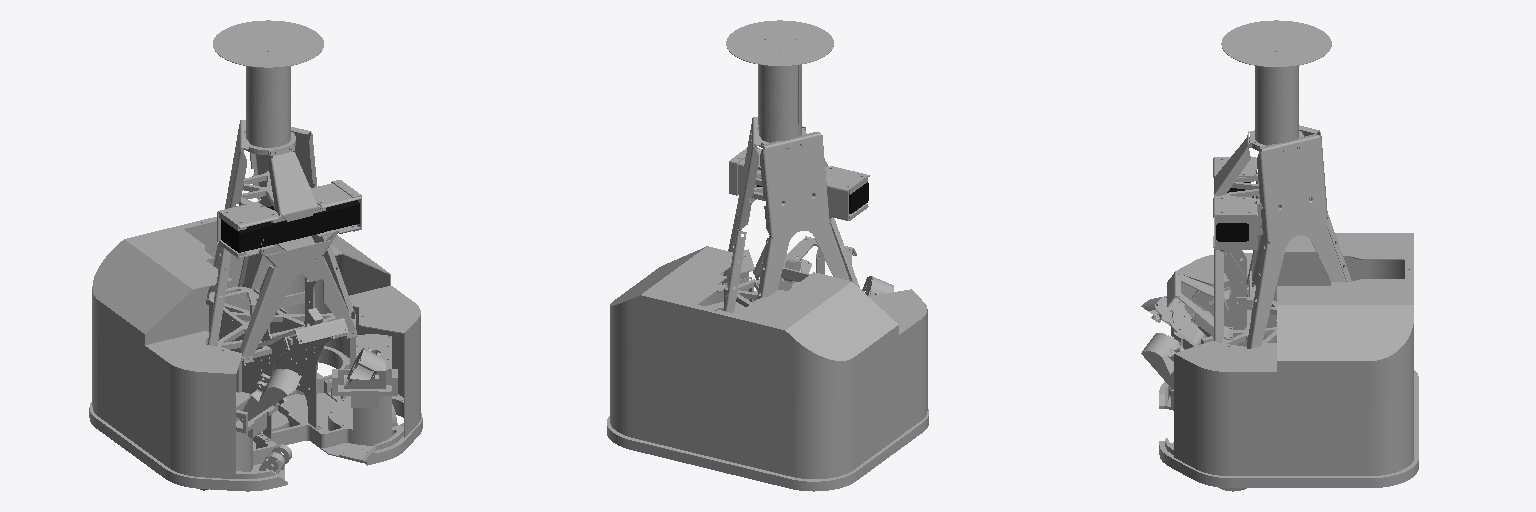
URDF robot description (3w_rcup_urdf_new):
<?xml version="1.0" ?>
<!-- =================================================================================== -->
<!-- |    This document was autogenerated by xacro from urdf/3w_rcup_urdf_new.xacro    | -->
<!-- |    EDITING THIS FILE BY HAND IS NOT RECOMMENDED                                 | -->
<!-- =================================================================================== -->
<robot xmlns:xacro="http://www.ros.org/wiki/xacro" name="3w_rcup_urdf_new">
  <material name="silver_default">
    <color rgba="0.700 0.700 0.700 1.000"/>
  </material>
  <material name="steel_satin">
    <color rgba="0.6274509803921569 0.6274509803921569 0.6274509803921569 1.0"/>
  </material>
  <material name="opaque272727">
    <color rgba="0.10588235294117647 0.10588235294117647 0.10588235294117647 1.0"/>
  </material>
  <transmission name="Revolute 5_tran">
    <type>transmission_interface/SimpleTransmission</type>
    <joint name="Revolute 5">
      <hardwareInterface>hardware_interface/EffortJointInterface</hardwareInterface>
    </joint>
    <actuator name="Revolute 5_actr">
      <hardwareInterface>hardware_interface/EffortJointInterface</hardwareInterface>
      <mechanicalReduction>1</mechanicalReduction>
    </actuator>
  </transmission>
  <transmission name="Revolute 6_tran">
    <type>transmission_interface/SimpleTransmission</type>
    <joint name="Revolute 6">
      <hardwareInterface>hardware_interface/EffortJointInterface</hardwareInterface>
    </joint>
    <actuator name="Revolute 6_actr">
      <hardwareInterface>hardware_interface/EffortJointInterface</hardwareInterface>
      <mechanicalReduction>1</mechanicalReduction>
    </actuator>
  </transmission>
  <transmission name="Revolute 7_tran">
    <type>transmission_interface/SimpleTransmission</type>
    <joint name="Revolute 7">
      <hardwareInterface>hardware_interface/EffortJointInterface</hardwareInterface>
    </joint>
    <actuator name="Revolute 7_actr">
      <hardwareInterface>hardware_interface/EffortJointInterface</hardwareInterface>
      <mechanicalReduction>1</mechanicalReduction>
    </actuator>
  </transmission>
  <transmission name="Revolute 15_tran">
    <type>transmission_interface/SimpleTransmission</type>
    <joint name="Revolute 15">
      <hardwareInterface>hardware_interface/EffortJointInterface</hardwareInterface>
    </joint>
    <actuator name="Revolute 15_actr">
      <hardwareInterface>hardware_interface/EffortJointInterface</hardwareInterface>
      <mechanicalReduction>1</mechanicalReduction>
    </actuator>
  </transmission>
  <transmission name="Revolute 16_tran">
    <type>transmission_interface/SimpleTransmission</type>
    <joint name="Revolute 16">
      <hardwareInterface>hardware_interface/EffortJointInterface</hardwareInterface>
    </joint>
    <actuator name="Revolute 16_actr">
      <hardwareInterface>hardware_interface/EffortJointInterface</hardwareInterface>
      <mechanicalReduction>1</mechanicalReduction>
    </actuator>
  </transmission>
  <transmission name="Revolute 17_tran">
    <type>transmission_interface/SimpleTransmission</type>
    <joint name="Revolute 17">
      <hardwareInterface>hardware_interface/EffortJointInterface</hardwareInterface>
    </joint>
    <actuator name="Revolute 17_actr">
      <hardwareInterface>hardware_interface/EffortJointInterface</hardwareInterface>
      <mechanicalReduction>1</mechanicalReduction>
    </actuator>
  </transmission>
  <link name="base_link">
    <inertial>
      <origin xyz="-0.0016765596355349697 0.010961034454487276 0.1359913404245512" rpy="0 0 0"/>
      <mass value="45.47836630248475"/>
      <inertia ixx="2.177628" iyy="2.397161" izz="1.792556" ixy="-0.008721" iyz="0.078213" ixz="-0.006159"/>
    </inertial>
    <visual>
      <origin xyz="0 0 0" rpy="0 0 0"/>
      <geometry>
        <mesh filename="package://3w_rcup_urdf_new_description/meshes/base_link.stl" scale="0.001 0.001 0.001"/>
      </geometry>
      <material name="silver_default"/>
    </visual>
    <collision>
      <origin xyz="0 0 0" rpy="0 0 0"/>
      <geometry>
        <mesh filename="package://3w_rcup_urdf_new_description/meshes/base_link.stl" scale="0.001 0.001 0.001"/>
      </geometry>
    </collision>
  </link>
  <link name="left_roller_1">
    <inertial>
      <origin xyz="-0.010694649902391953 0.00803962610329817 0.006781847703606597" rpy="0 0 0"/>
      <mass value="0.4122786652131398"/>
      <inertia ixx="0.000106" iyy="9.9e-05" izz="9.6e-05" ixy="-1e-05" iyz="8e-06" ixz="-9e-06"/>
    </inertial>
    <visual>
      <origin xyz="-0.095008 0.214003 -0.17631" rpy="0 0 0"/>
      <geometry>
        <mesh filename="package://3w_rcup_urdf_new_description/meshes/left_roller_1.stl" scale="0.001 0.001 0.001"/>
      </geometry>
      <material name="steel_satin"/>
    </visual>
    <collision>
      <origin xyz="-0.095008 0.214003 -0.17631" rpy="0 0 0"/>
      <geometry>
        <mesh filename="package://3w_rcup_urdf_new_description/meshes/left_roller_1.stl" scale="0.001 0.001 0.001"/>
      </geometry>
    </collision>
  </link>
  <link name="right_roller_1">
    <inertial>
      <origin xyz="0.01070386879259716 0.008003421622574586 0.006810021314246767" rpy="0 0 0"/>
      <mass value="0.41227866521313966"/>
      <inertia ixx="0.000106" iyy="9.9e-05" izz="9.6e-05" ixy="1.1e-05" iyz="8e-06" ixz="9e-06"/>
    </inertial>
    <visual>
      <origin xyz="0.095008 0.214003 -0.17631" rpy="0 0 0"/>
      <geometry>
        <mesh filename="package://3w_rcup_urdf_new_description/meshes/right_roller_1.stl" scale="0.001 0.001 0.001"/>
      </geometry>
      <material name="steel_satin"/>
    </visual>
    <collision>
      <origin xyz="0.095008 0.214003 -0.17631" rpy="0 0 0"/>
      <geometry>
        <mesh filename="package://3w_rcup_urdf_new_description/meshes/right_roller_1.stl" scale="0.001 0.001 0.001"/>
      </geometry>
    </collision>
  </link>
  <link name="kicker_1">
    <inertial>
      <origin xyz="-0.025188832166870394 -0.013717609182182872 -0.08108173194304436" rpy="0 0 0"/>
      <mass value="0.8809905481847389"/>
      <inertia ixx="0.009181" iyy="0.008966" izz="0.000535" ixy="5e-06" iyz="0.000274" ixz="1.1e-05"/>
    </inertial>
    <visual>
      <origin xyz="-0.025 0.100117 -0.245868" rpy="0 0 0"/>
      <geometry>
        <mesh filename="package://3w_rcup_urdf_new_description/meshes/kicker_1.stl" scale="0.001 0.001 0.001"/>
      </geometry>
      <material name="opaque272727"/>
    </visual>
    <collision>
      <origin xyz="-0.025 0.100117 -0.245868" rpy="0 0 0"/>
      <geometry>
        <mesh filename="package://3w_rcup_urdf_new_description/meshes/kicker_1.stl" scale="0.001 0.001 0.001"/>
      </geometry>
    </collision>
  </link>
  <link name="kinect_1">
    <inertial>
      <origin xyz="8.07978825644895e-05 0.03307821422428597 -0.01854148491227281" rpy="0 0 0"/>
      <mass value="5.665239174580644"/>
      <inertia ixx="0.002961" iyy="0.029846" izz="0.031012" ixy="1.5e-05" iyz="-0.0" ixz="0.0"/>
    </inertial>
    <visual>
      <origin xyz="0.0 0.11115 -0.467009" rpy="0 0 0"/>
      <geometry>
        <mesh filename="package://3w_rcup_urdf_new_description/meshes/kinect_1.stl" scale="0.001 0.001 0.001"/>
      </geometry>
      <material name="opaque272727"/>
    </visual>
    <collision>
      <origin xyz="0.0 0.11115 -0.467009" rpy="0 0 0"/>
      <geometry>
        <mesh filename="package://3w_rcup_urdf_new_description/meshes/kinect_1.stl" scale="0.001 0.001 0.001"/>
      </geometry>
    </collision>
  </link>
  <link name="front_left_wheel_1">
    <inertial>
      <origin xyz="0.01199999999999915 -9.929252031387614e-06 -9.515285583815147e-06" rpy="0 0 0"/>
      <mass value="1.3762351375635922"/>
      <inertia ixx="0.001935" iyy="0.001008" izz="0.001019" ixy="0.0" iyz="1e-06" ixz="-0.0"/>
    </inertial>
    <visual>
      <origin xyz="-0.17 0.078381 -0.015" rpy="0 0 0"/>
      <geometry>
        <mesh filename="package://3w_rcup_urdf_new_description/meshes/front_left_wheel_1.stl" scale="0.001 0.001 0.001"/>
      </geometry>
      <material name="steel_satin"/>
    </visual>
    <collision>
      <origin xyz="-0.17 0.078381 -0.015" rpy="0 0 0"/>
      <geometry>
        <mesh filename="package://3w_rcup_urdf_new_description/meshes/front_left_wheel_1.stl" scale="0.001 0.001 0.001"/>
      </geometry>
    </collision>
  </link>
  <link name="front_right_wheel_1">
    <inertial>
      <origin xyz="-0.010000000000000259 1.0026776155927508e-05 0.0020030933208660846" rpy="0 0 0"/>
      <mass value="1.3762351375635922"/>
      <inertia ixx="0.001936" iyy="0.001009" izz="0.001019" ixy="-0.0" iyz="0.0" ixz="-0.0"/>
    </inertial>
    <visual>
      <origin xyz="0.17 0.078381 -0.015" rpy="0 0 0"/>
      <geometry>
        <mesh filename="package://3w_rcup_urdf_new_description/meshes/front_right_wheel_1.stl" scale="0.001 0.001 0.001"/>
      </geometry>
      <material name="steel_satin"/>
    </visual>
    <collision>
      <origin xyz="0.17 0.078381 -0.015" rpy="0 0 0"/>
      <geometry>
        <mesh filename="package://3w_rcup_urdf_new_description/meshes/front_right_wheel_1.stl" scale="0.001 0.001 0.001"/>
      </geometry>
    </collision>
  </link>
  <link name="Component423_1">
    <inertial>
      <origin xyz="7.105427357601002e-17 3.3306690738754696e-16 0.015" rpy="0 0 0"/>
      <mass value="4.895373976646171"/>
      <inertia ixx="0.0055" iyy="0.0055" izz="0.0055" ixy="0.0" iyz="0.0" ixz="0.0"/>
    </inertial>
    <visual>
      <origin xyz="-0.0 -0.175 -0.0" rpy="0 0 0"/>
      <geometry>
        <mesh filename="package://3w_rcup_urdf_new_description/meshes/Component423_1.stl" scale="0.001 0.001 0.001"/>
      </geometry>
      <material name="steel_satin"/>
    </visual>
    <collision>
      <origin xyz="-0.0 -0.175 -0.0" rpy="0 0 0"/>
      <geometry>
        <mesh filename="package://3w_rcup_urdf_new_description/meshes/Component423_1.stl" scale="0.001 0.001 0.001"/>
      </geometry>
    </collision>
  </link>
  <joint name="Revolute 5" type="continuous">
    <origin xyz="0.095008 -0.214003 0.17631" rpy="0 0 0"/>
    <parent link="base_link"/>
    <child link="left_roller_1"/>
    <axis xyz="0.713077 -0.534564 -0.453611"/>
  </joint>
  <joint name="Revolute 6" type="continuous">
    <origin xyz="-0.095008 -0.214003 0.17631" rpy="0 0 0"/>
    <parent link="base_link"/>
    <child link="right_roller_1"/>
    <axis xyz="-0.713077 -0.534564 -0.453611"/>
  </joint>
  <joint name="Revolute 7" type="continuous">
    <origin xyz="0.025 -0.100117 0.245868" rpy="0 0 0"/>
    <parent link="base_link"/>
    <child link="kicker_1"/>
    <axis xyz="1.0 -0.0 0.0"/>
  </joint>
  <joint name="Rigid 11" type="fixed">
    <origin xyz="0.0 -0.11115 0.467009" rpy="0 0 0"/>
    <parent link="base_link"/>
    <child link="kinect_1"/>
  </joint>
  <joint name="Revolute 15" type="continuous">
    <origin xyz="0.17 -0.078381 0.015" rpy="0 0 0"/>
    <parent link="base_link"/>
    <child link="front_left_wheel_1"/>
    <axis xyz="1.0 -0.0 0.0"/>
  </joint>
  <joint name="Revolute 16" type="continuous">
    <origin xyz="-0.17 -0.078381 0.015" rpy="0 0 0"/>
    <parent link="base_link"/>
    <child link="front_right_wheel_1"/>
    <axis xyz="-1.0 0.0 -0.0"/>
  </joint>
  <joint name="Rigid 17" type="fixed">
    <origin xyz="0.0 0.175 0.0" rpy="0 0 0"/>
    <parent link="base_link"/>
    <child link="Component423_1"/>
    <!-- <axis xyz="0.856426 -0.51627 0.0"/> -->
  </joint>
</robot>

--- Facts derived from the render (not from the file) ---
Views: 3 orthographic renders of the robot side by side, from view 1: azimuth 30°, elevation 25°; view 2: azimuth 150°, elevation 25°; view 3: azimuth 270°, elevation 25°.
Robot: 3w_rcup_urdf_new — 8 links, 7 joints (5 continuous, 2 fixed); root link base_link; default pose: every joint at zero.
Visible links, largest first — view 1: base_link, kinect_1; view 2: base_link; view 3: base_link, kinect_1.
Boxes of the visible links, x1=… form: base_link: x1=89, y1=20, x2=422, y2=491; kinect_1: x1=221, y1=200, x2=359, y2=252; base_link: x1=607, y1=20, x2=928, y2=491; base_link: x1=1141, y1=20, x2=1418, y2=487; kinect_1: x1=1216, y1=182, x2=1253, y2=241.
Bounding box of the posed robot: 0.52 × 0.5031 × 0.8055 m (x, y, z).
Meshes: 8 distinct files referenced, 5 mesh visuals loaded (5 binary STL); not drawn: 3 (reference not matched to a file when rendering).